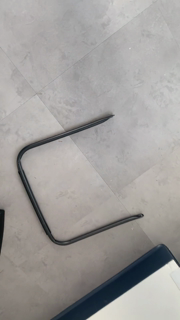C pipe: (16, 112, 149, 247)
